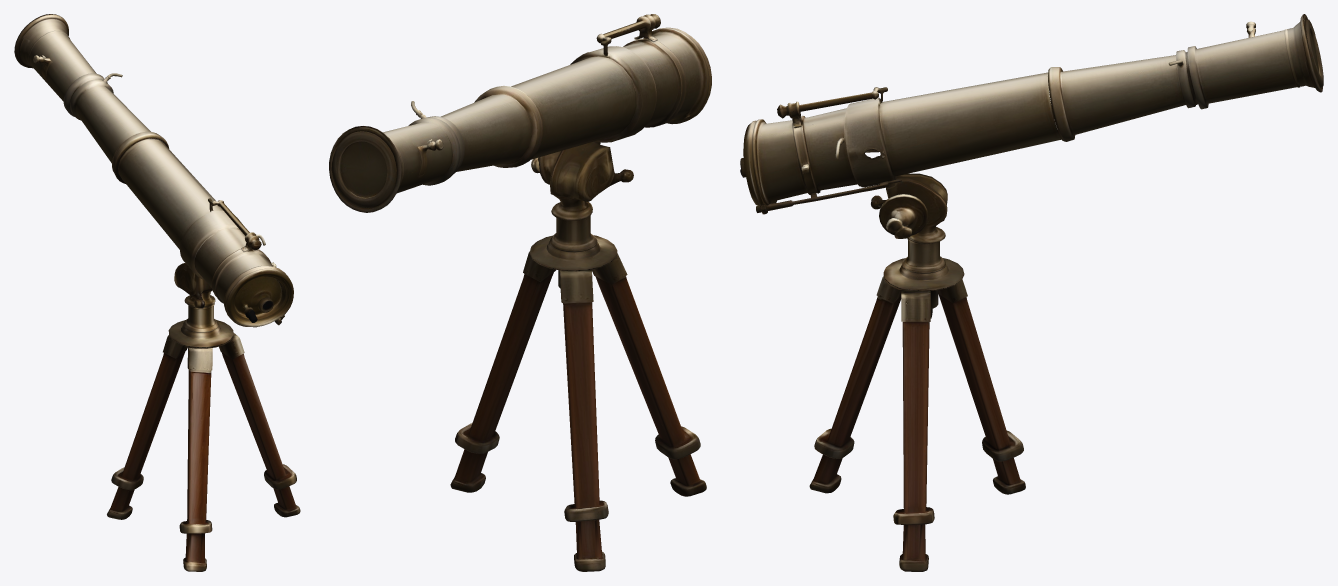
Rendered from brass-telescope.glb.
3 views of the same model, side by side, from view 1: azimuth 30°, elevation 25°; view 2: azimuth 150°, elevation 25°; view 3: azimuth 270°, elevation 25° (orthographic). The views are drawn at different scales.
Visible parts, largest first — view 1: tripo_9e35cf3e_ebac_43c9_9cd0_a1169ed39768; view 2: tripo_9e35cf3e_ebac_43c9_9cd0_a1169ed39768; view 3: tripo_9e35cf3e_ebac_43c9_9cd0_a1169ed39768.
Part boxes in pixels (x1,y1,x2,y2): tripo_9e35cf3e_ebac_43c9_9cd0_a1169ed39768: (14,14,300,571); tripo_9e35cf3e_ebac_43c9_9cd0_a1169ed39768: (329,14,711,571); tripo_9e35cf3e_ebac_43c9_9cd0_a1169ed39768: (740,14,1323,571).
Size of the model in its own units: 0.3677 by 0.9458 by 0.9995.
Materials: 1 (1 with a texture image).
